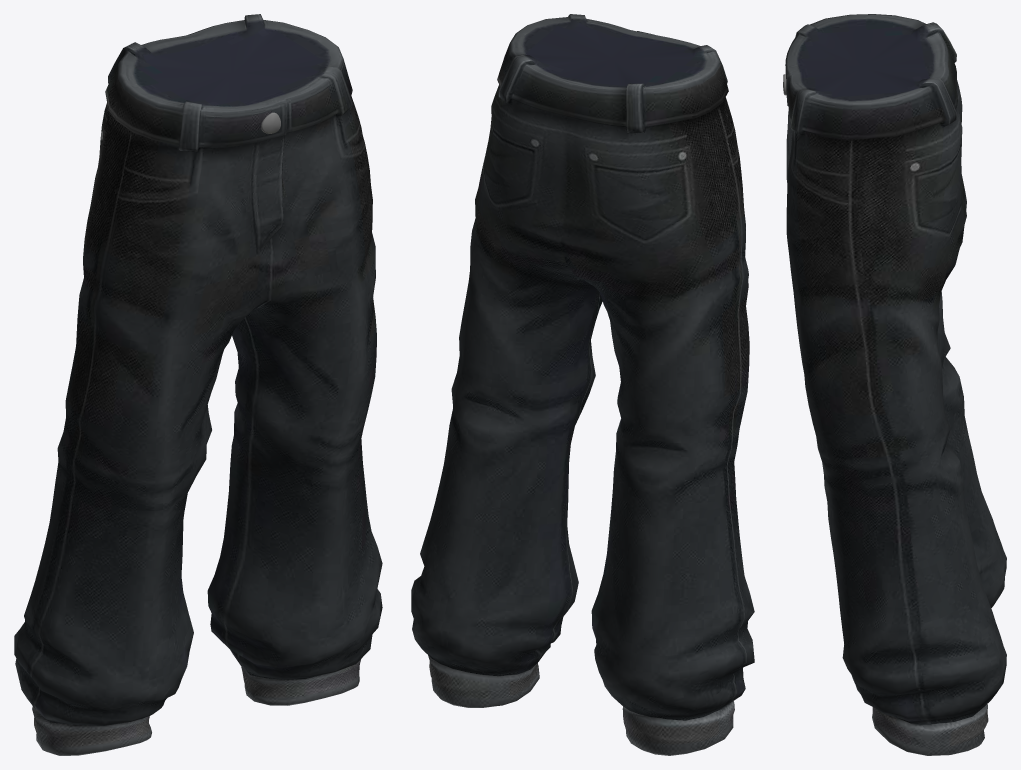
File: Pants.glb
The picture shows the model from 3 angles, left to right: view 1: azimuth 30°, elevation 25°; view 2: azimuth 150°, elevation 25°; view 3: azimuth 270°, elevation 25°; orthographic projection. The views are drawn at different scales.
Visible parts, largest first — view 1: Bottom; view 2: Bottom; view 3: Bottom.
Part boxes in pixels (left/top/right/bottom): Bottom: left=14, top=14, right=382, bottom=755; Bottom: left=411, top=14, right=754, bottom=755; Bottom: left=783, top=14, right=1006, bottom=755.
Bounding box in the file's own units: 0.5068 × 0.97 × 0.3077.
1 material, 1 textured.
